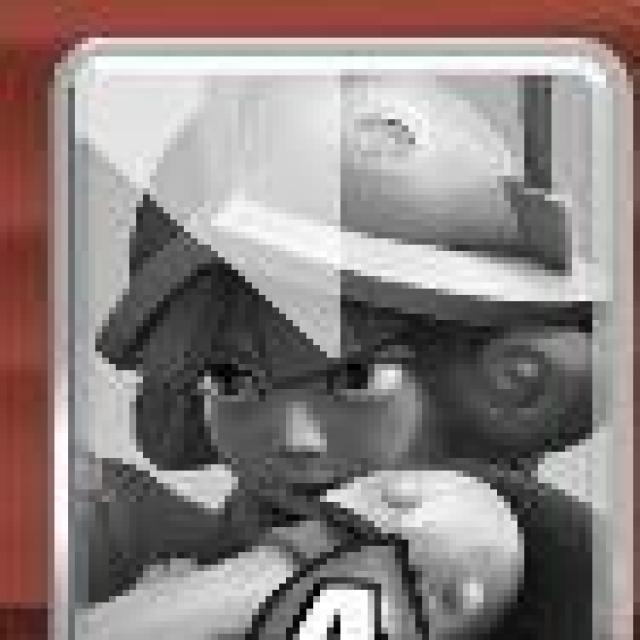Musketeer: (66, 53, 640, 640)
